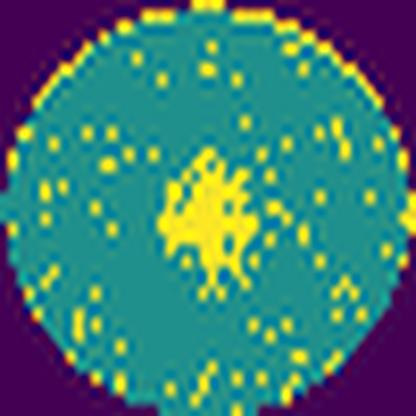Center: (156, 146, 261, 302)
